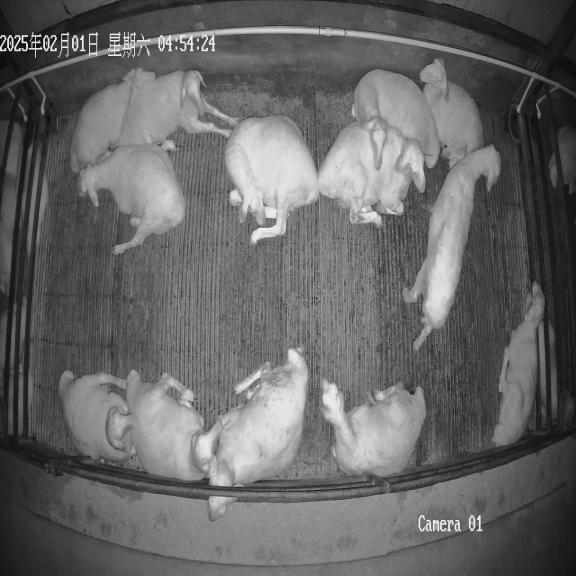lying: (207, 348, 308, 520), (225, 116, 320, 244), (79, 144, 186, 254), (125, 370, 222, 481), (319, 125, 425, 225), (110, 70, 238, 150), (322, 380, 426, 478), (352, 69, 440, 170), (71, 68, 155, 172), (492, 282, 545, 446), (420, 58, 484, 167), (59, 370, 135, 461)
stand: (403, 145, 501, 349)
